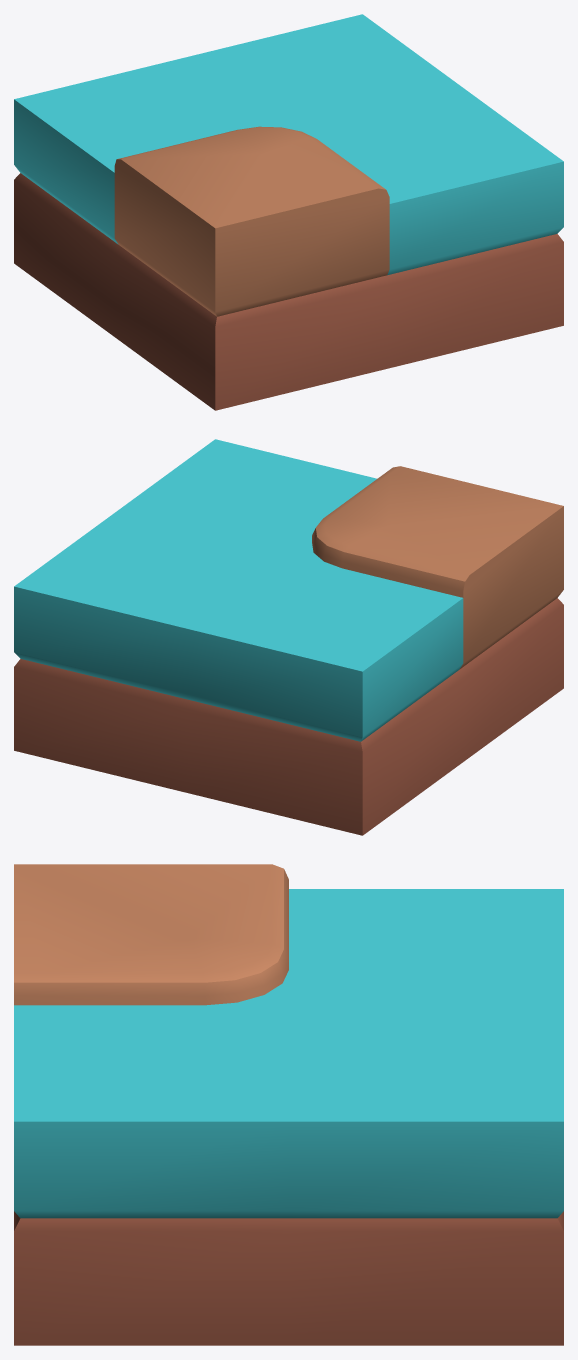
File: kaykit-square-rock-wateroutercorner.glb
3 renders of one model, top to bottom at view 1: azimuth 30°, elevation 25°; view 2: azimuth 150°, elevation 25°; view 3: azimuth 270°, elevation 25°, orthographic. The views are drawn at different scales.
Visible parts, largest first — view 1: square_rock_waterOuterCorner; view 2: square_rock_waterOuterCorner; view 3: square_rock_waterOuterCorner.
Boxes of the visible parts, x1=… form: square_rock_waterOuterCorner: x1=14, y1=14, x2=563, y2=410; square_rock_waterOuterCorner: x1=14, y1=439, x2=563, y2=835; square_rock_waterOuterCorner: x1=14, y1=864, x2=563, y2=1345.
Bounding box in the file's own units: 2 × 0.9998 × 2.
